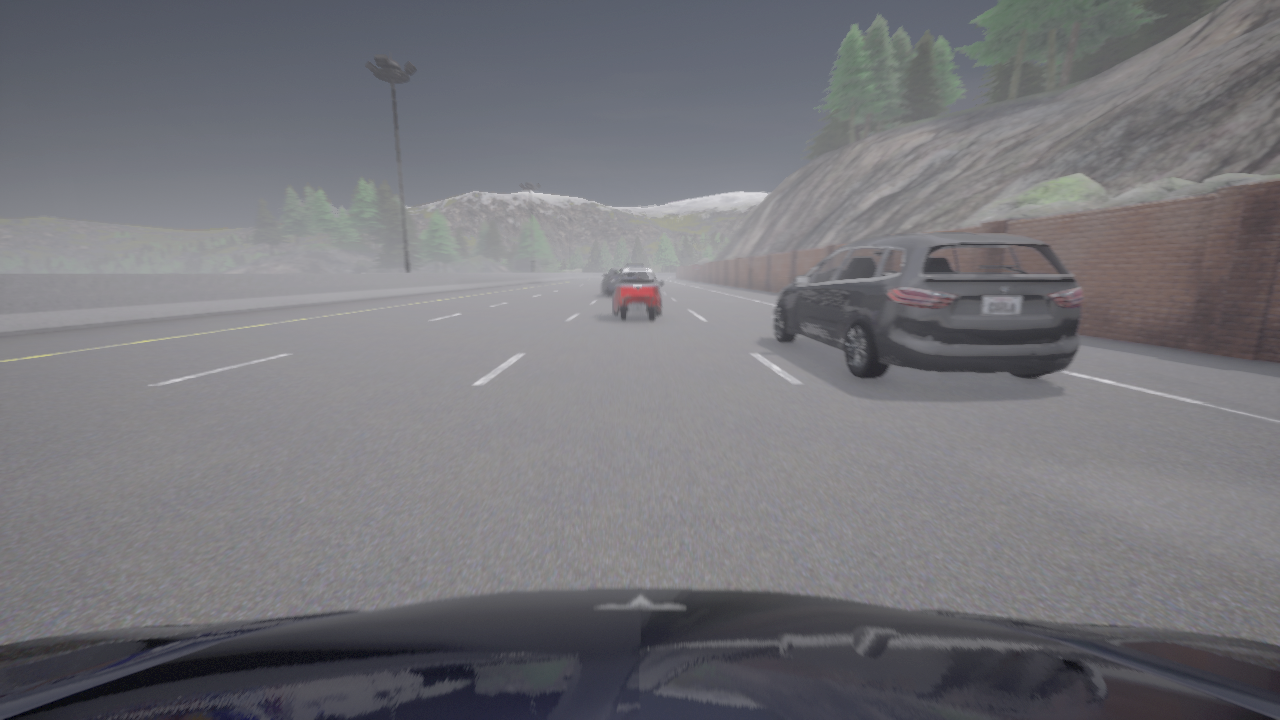cyclist: (0, 588, 1279, 719), (773, 233, 1082, 378), (611, 266, 662, 319), (602, 267, 623, 296), (625, 264, 644, 266)
